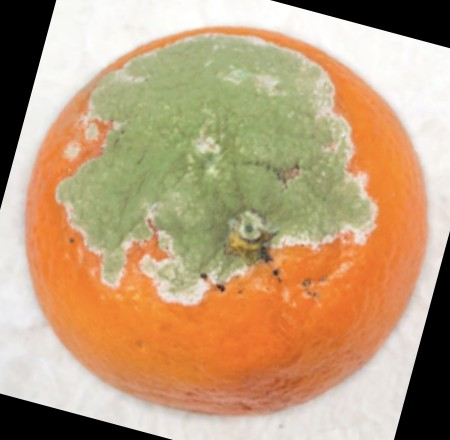rotten_orange: (25, 26, 429, 417)
